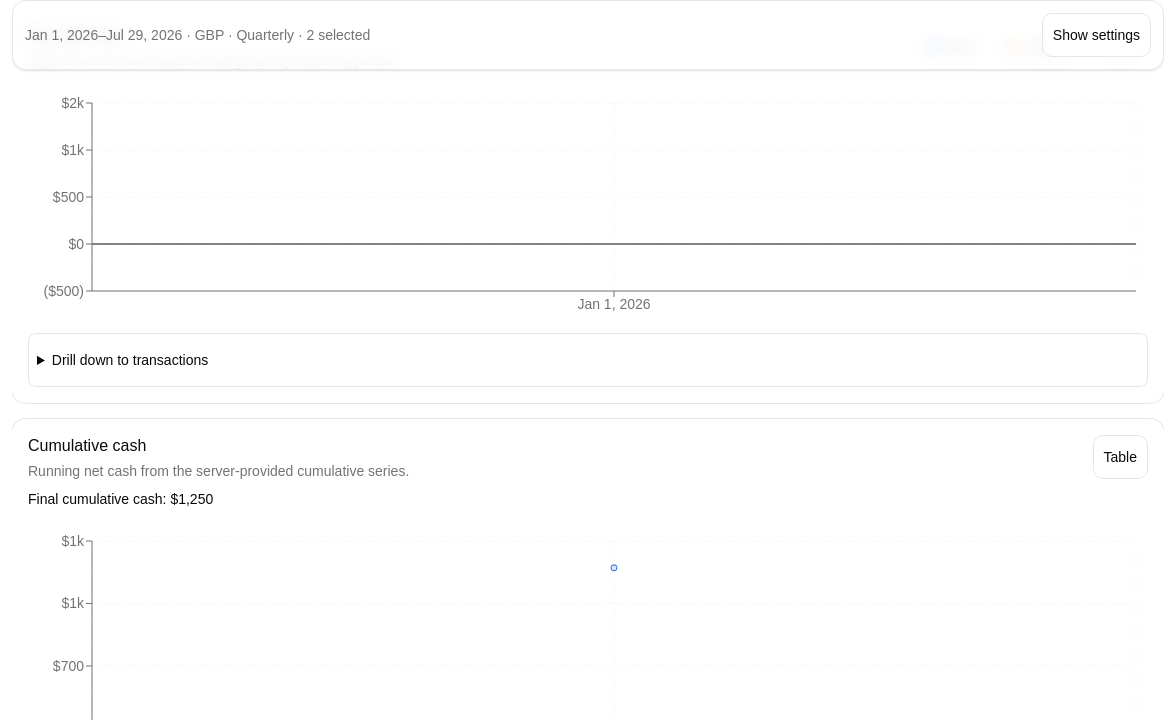
HomePage dashboard shell › restores a copied URL and requests only overview analytics for every selected property
(page scrolled)
Expected: the text "Net cash flow" is shown, [28,27,124,44]
Click the heading "Drill down to transactions": (130, 360) [52,352,208,368]
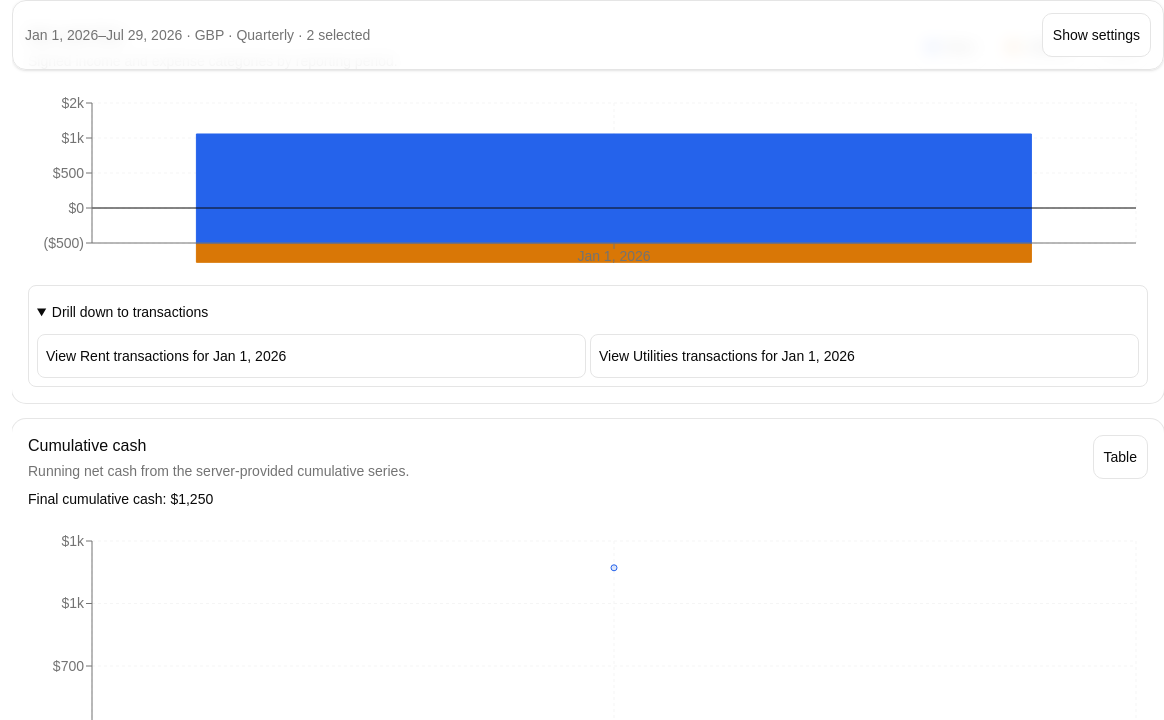
Click the button "View Rent transactions for Jan 1, 2026": (63, 356) [37,334,586,378]
(page scrolled)
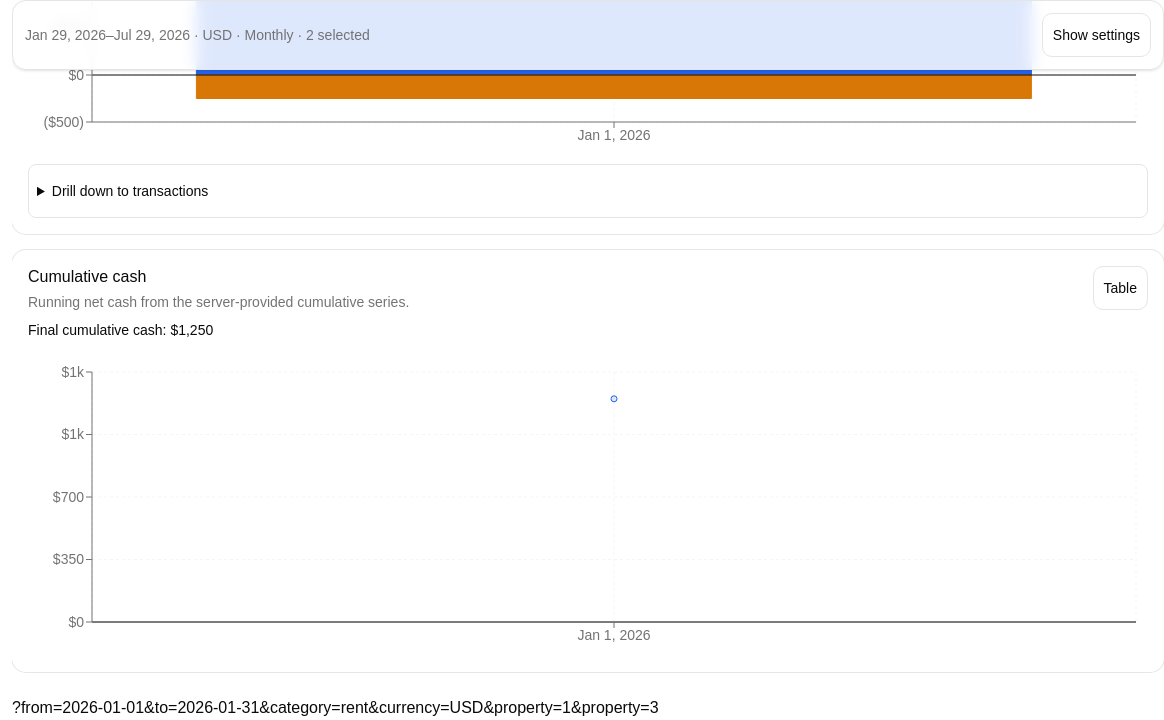
Expected: the text named "Current dashboard URL" shows "from=2026-01-01&to=2026-01-31&category=rent&currency=USD&property=1&property=3", [12,699,659,716]
